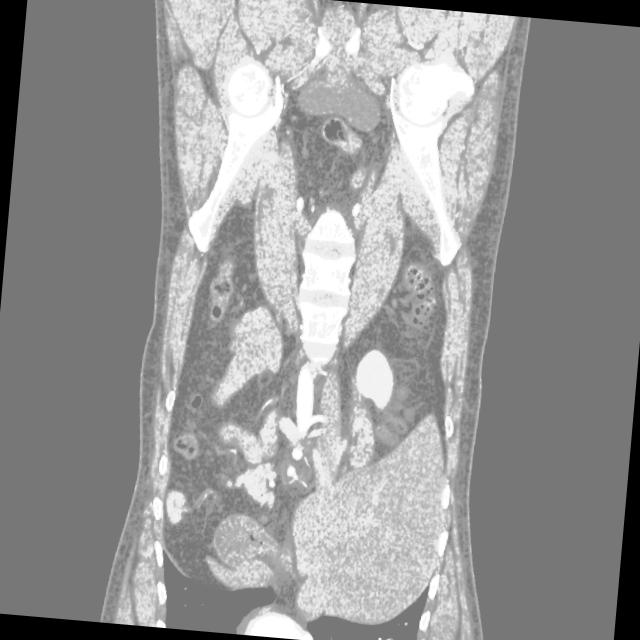NORMAL: (76, 91, 544, 621)
